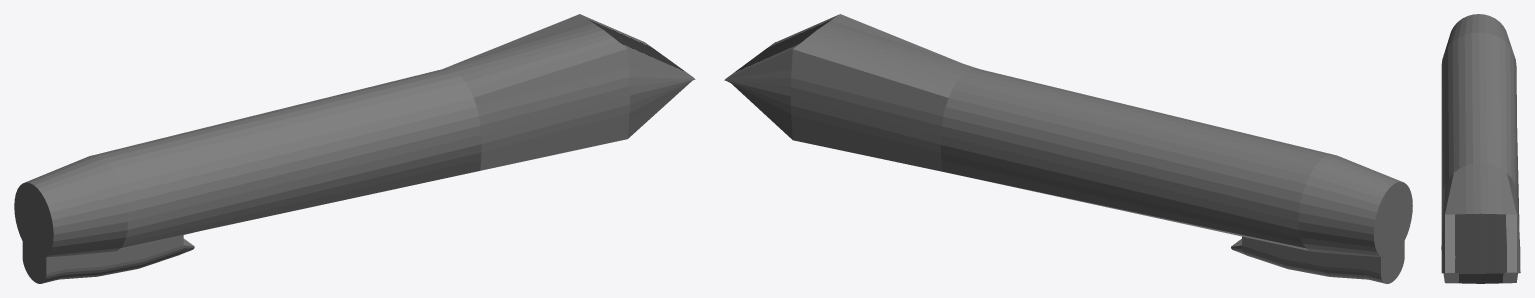
File: f18faaq33.glb
3 renders of one model, left to right at view 1: azimuth 30°, elevation 25°; view 2: azimuth 150°, elevation 25°; view 3: azimuth 270°, elevation 25°, orthographic. The views are drawn at different scales.
Parts seen in each view (by area): view 1: 円柱.036; view 2: 円柱.036; view 3: 円柱.036.
Part boxes in pixels (x1=…): 円柱.036: x1=14, y1=14, x2=695, y2=283; 円柱.036: x1=724, y1=14, x2=1412, y2=283; 円柱.036: x1=1441, y1=14, x2=1520, y2=283.
Size of the model in its own units: 2.95 by 0.5327 by 0.4188.
1 material, 1 textured.
